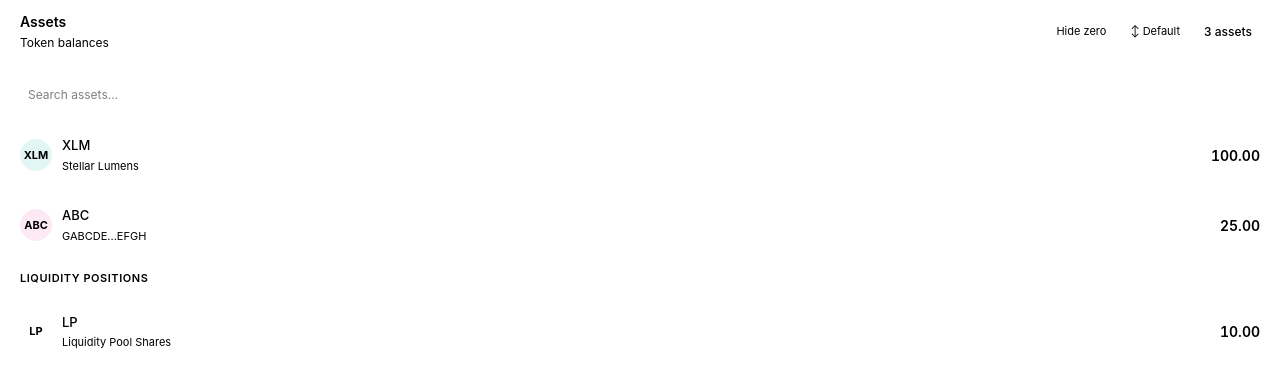
BalanceList › liquidity pool shares grouping › hides the LP section when a search filters out all LP balances
Type "abc" into the field with placeholder "Search assets…" at x=640, y=94, box [16, 76, 1264, 112]
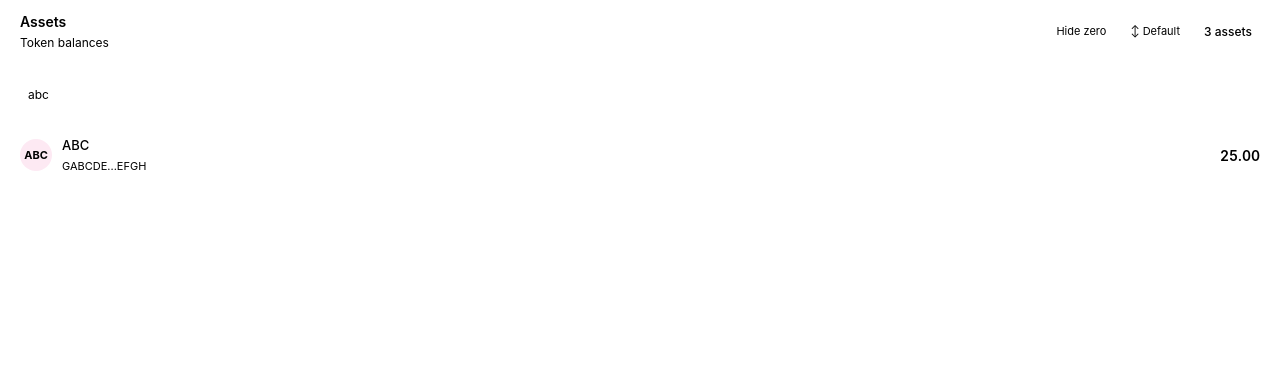
Result: the heading "Liquidity Positions" is gone
